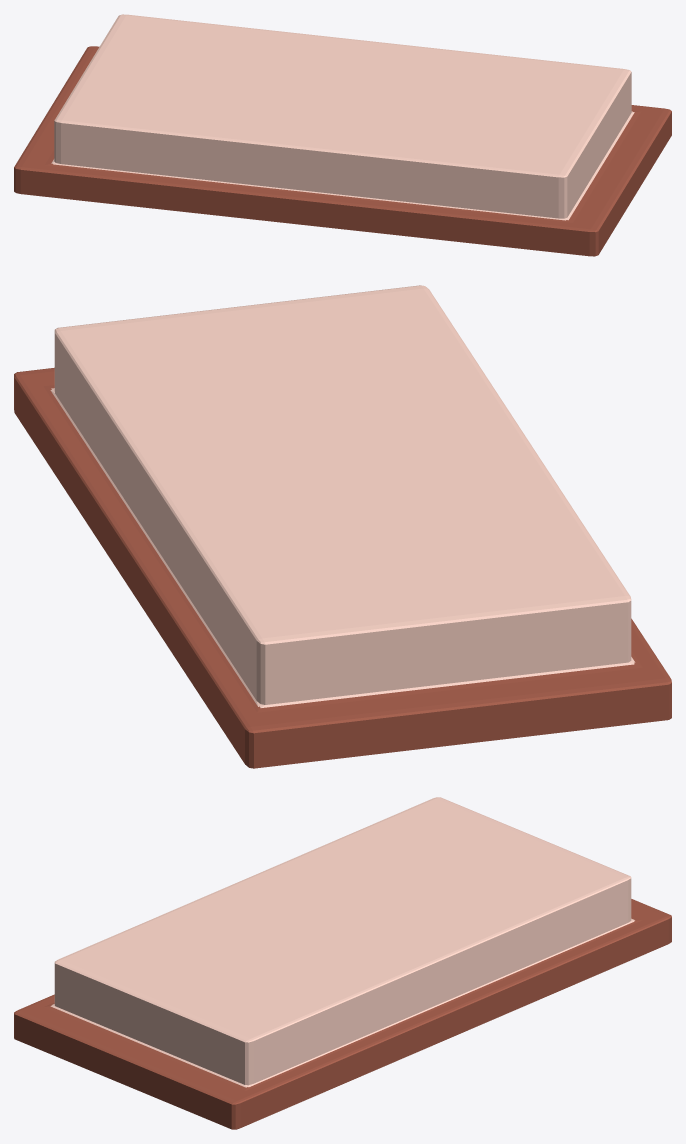
Rendered from item-stand6.fbx.
The picture shows the model from 3 angles, top to bottom: view 1: azimuth 30°, elevation 25°; view 2: azimuth 150°, elevation 25°; view 3: azimuth 270°, elevation 25°; orthographic projection. The views are drawn at different scales.
Parts seen in each view (by area): view 1: Cube.011; view 2: Cube.011; view 3: Cube.011.
Part boxes in pixels (x1,y1,x2,y2): Cube.011: (14, 14, 671, 256); Cube.011: (14, 285, 671, 768); Cube.011: (14, 797, 671, 1129).
Bounding box in the file's own units: 2034 × 244 × 2022.
